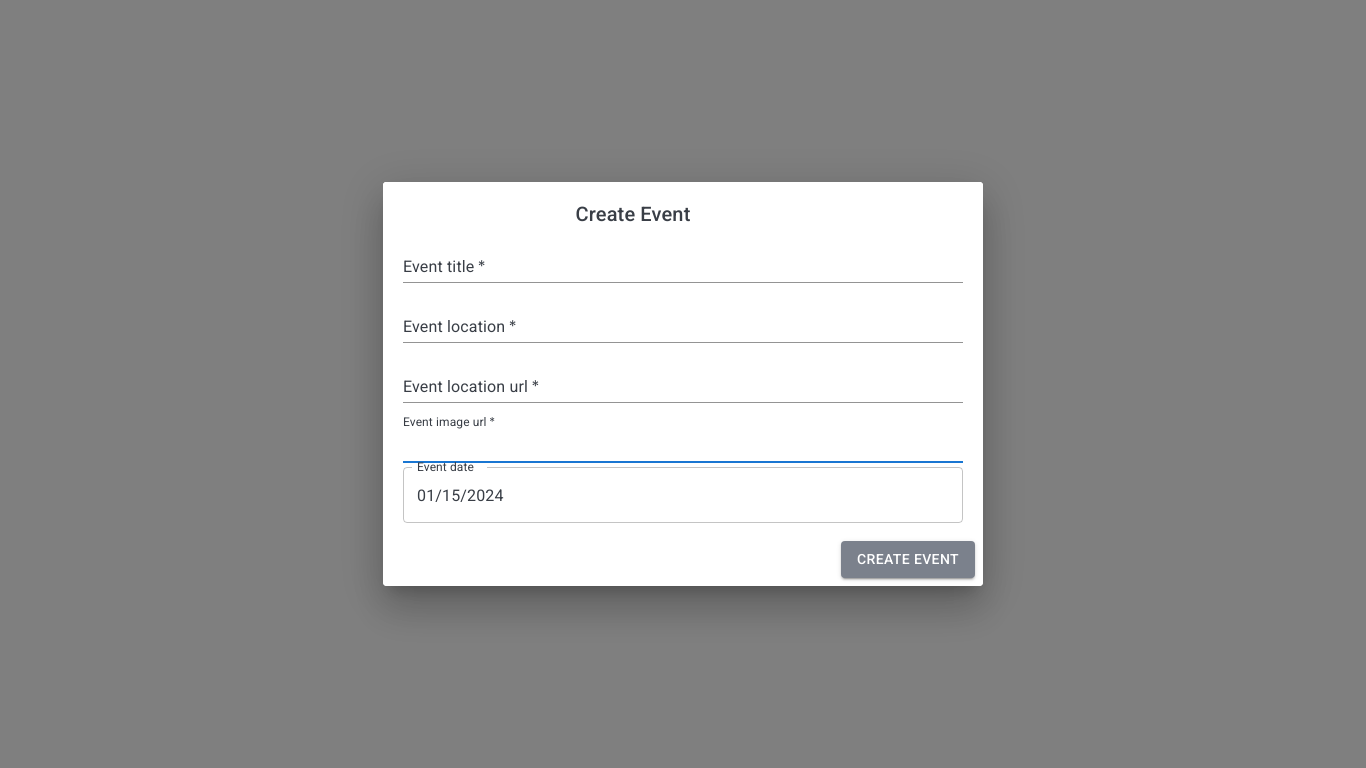
Test CreateEventModal validation › should display error label when event title is less than 6 characters
The width and height of the screenshot is (1366, 768).
Step 1. Type "ABCDE" into the field with test id "event-title-input" → x=683, y=267, box [403,251,963,283]
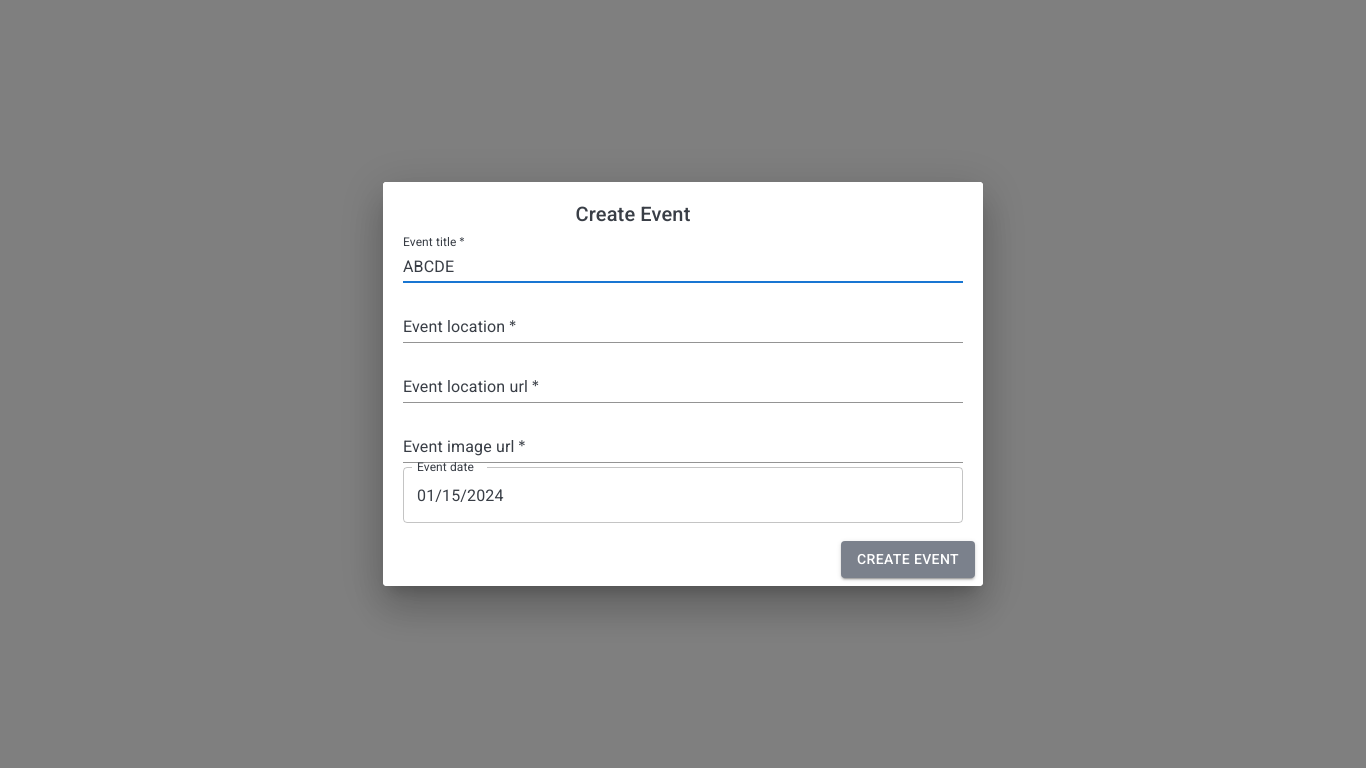
Step 2. Click the button with test id "create-event-modal-button" → x=908, y=560, box [841,541,975,578]
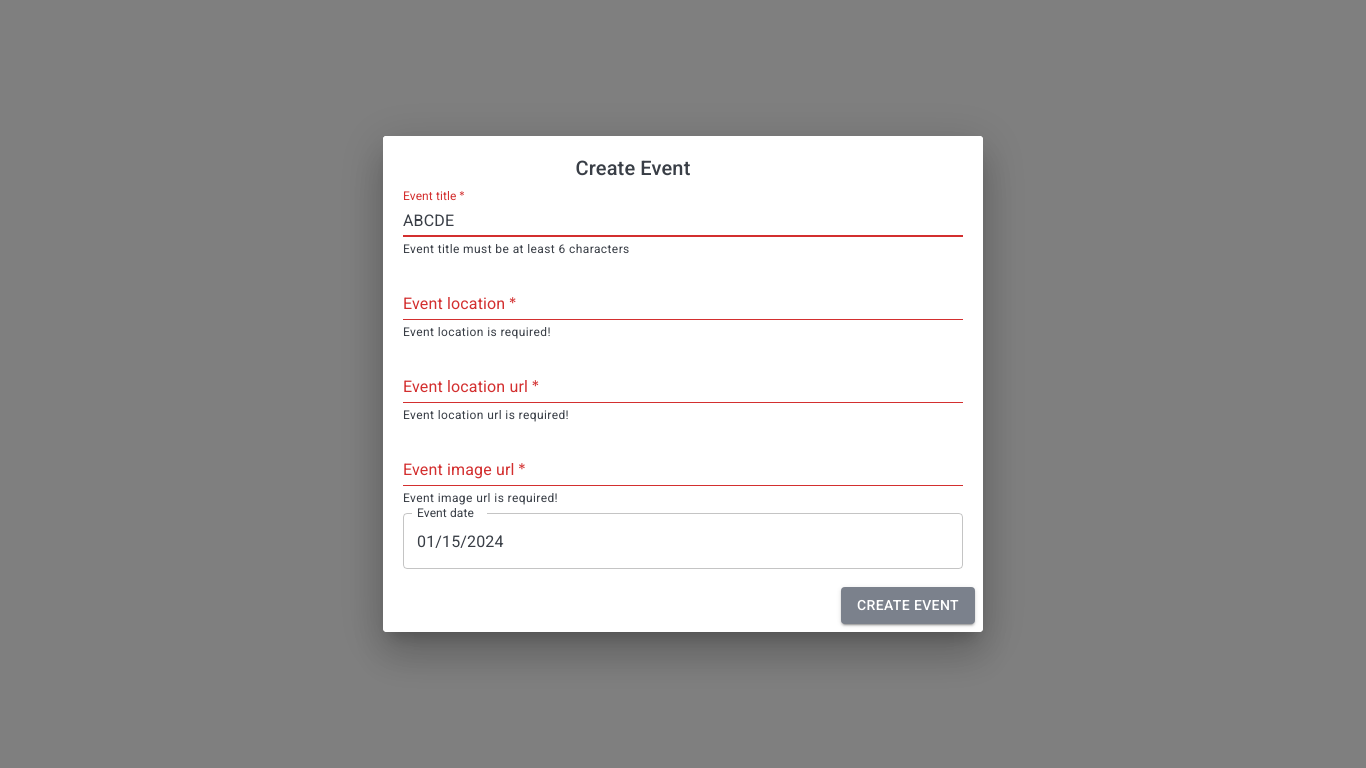
Now the text with id "event-title-input-helper-text" reads "Event title must be at least 6 characters", box [403,242,630,256]
